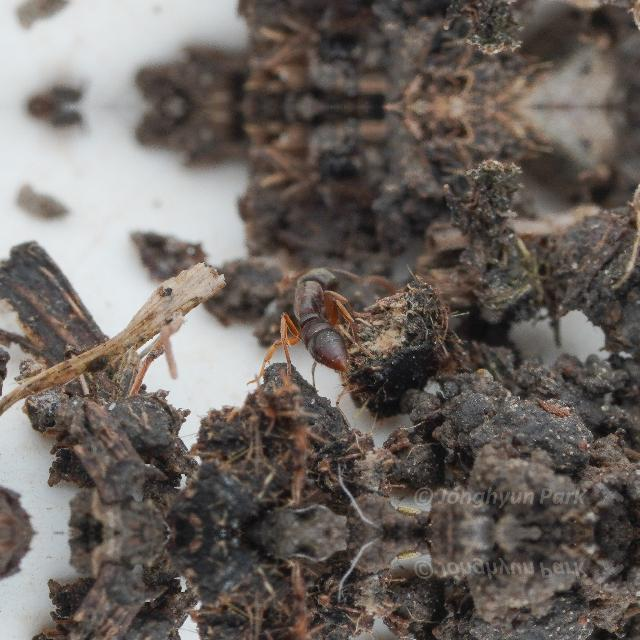Ponera: (264, 237, 370, 381)
